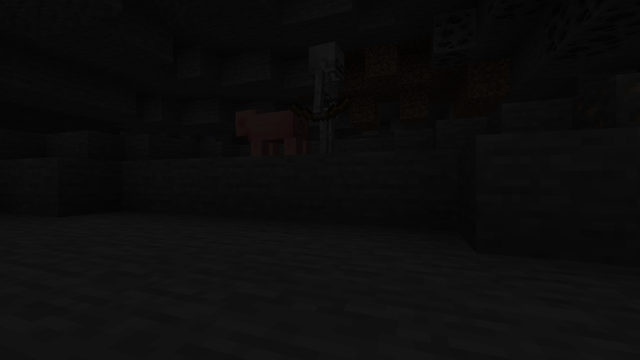cochons: (245, 106, 298, 151)
squelettes: (305, 40, 346, 135)
